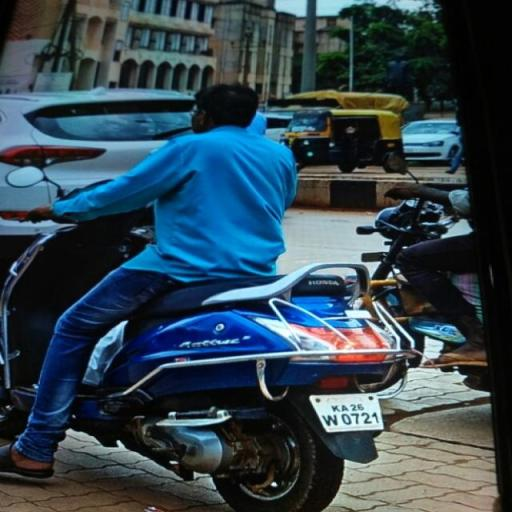bike: (0, 77, 419, 512)
numberplate: (311, 384, 388, 438)
withouthelmet: (196, 84, 260, 126)
